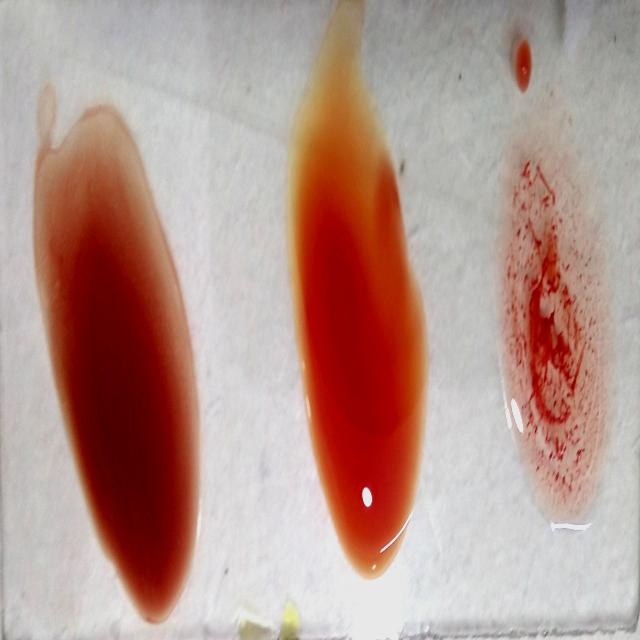D: (498, 133, 602, 513)
